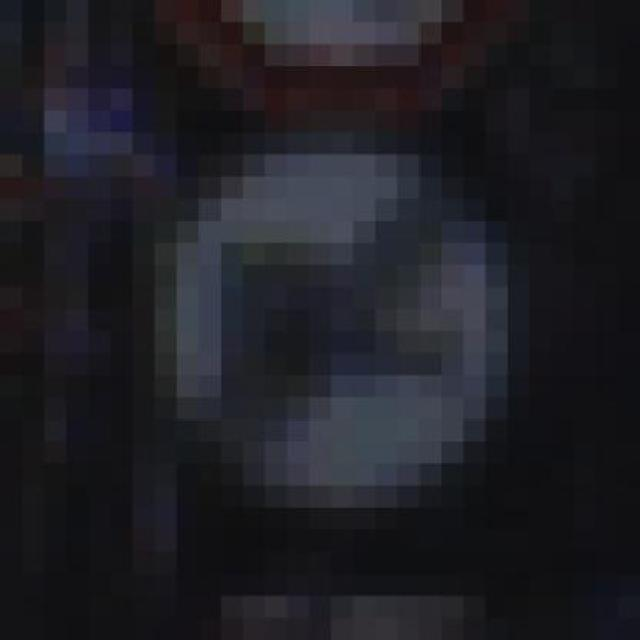Overtaking by trucks is prohibited: (44, 110, 596, 552)
